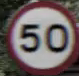Speed limit: (6, 5, 71, 67)
